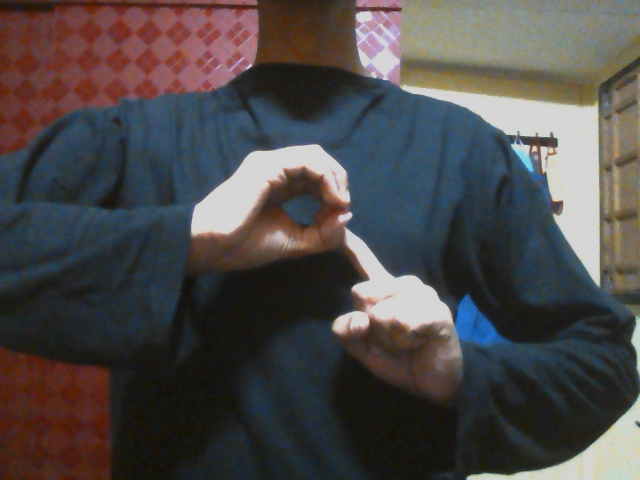Q: (207, 141, 456, 404)
